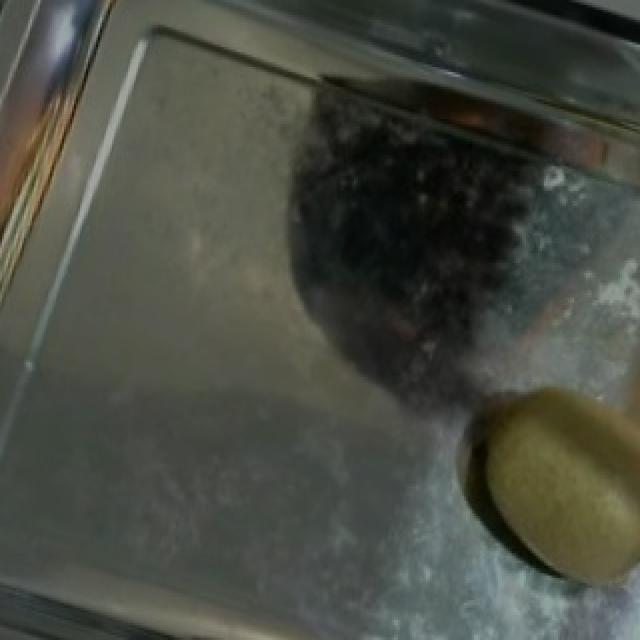Fruit: (454, 357, 640, 608)
